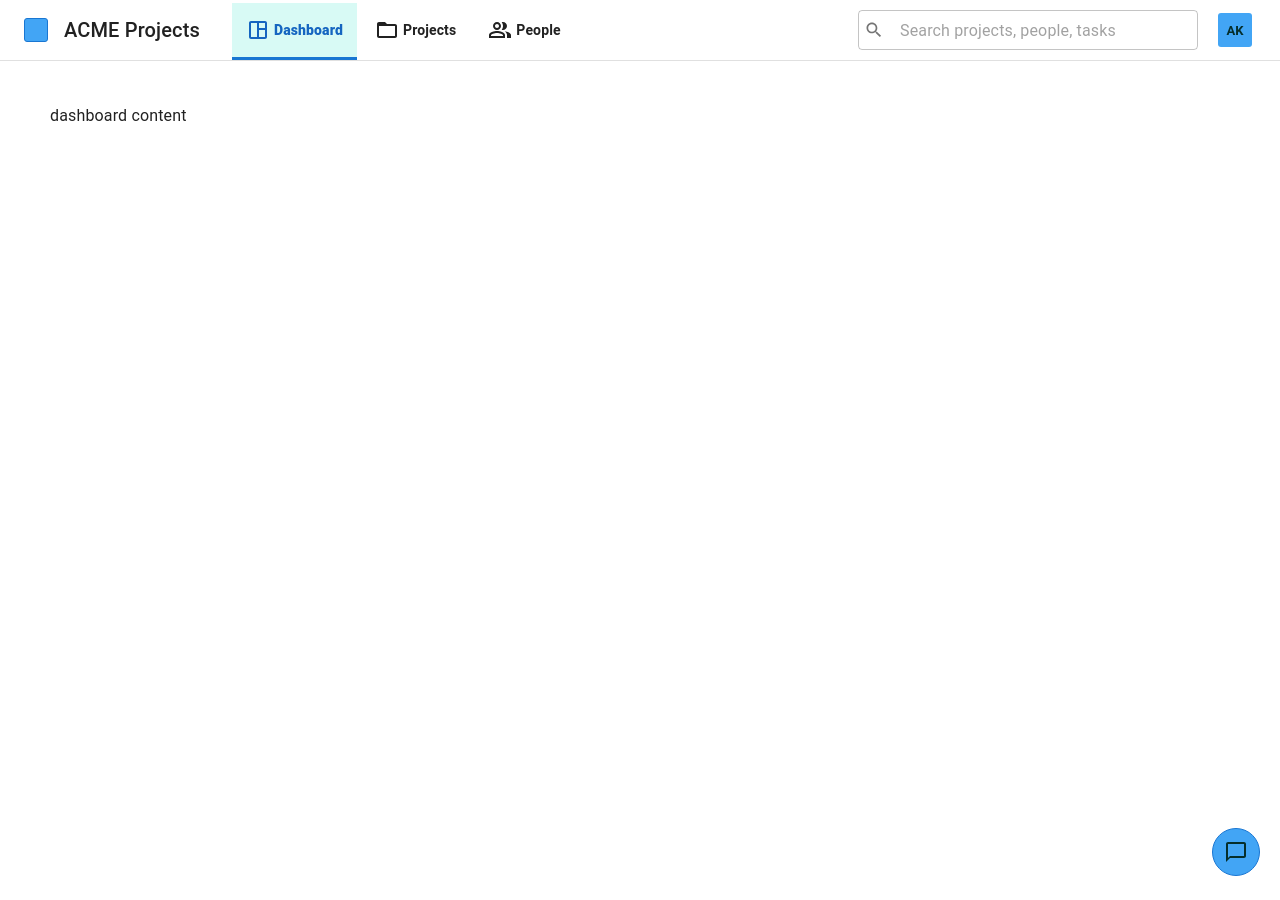
it: AppShell on a wide screen › moves between pages through the menu
The width and height of the screenshot is (1280, 900).
Step 1. Click the link "Projects" → (416, 30), box [375,18,456,42]
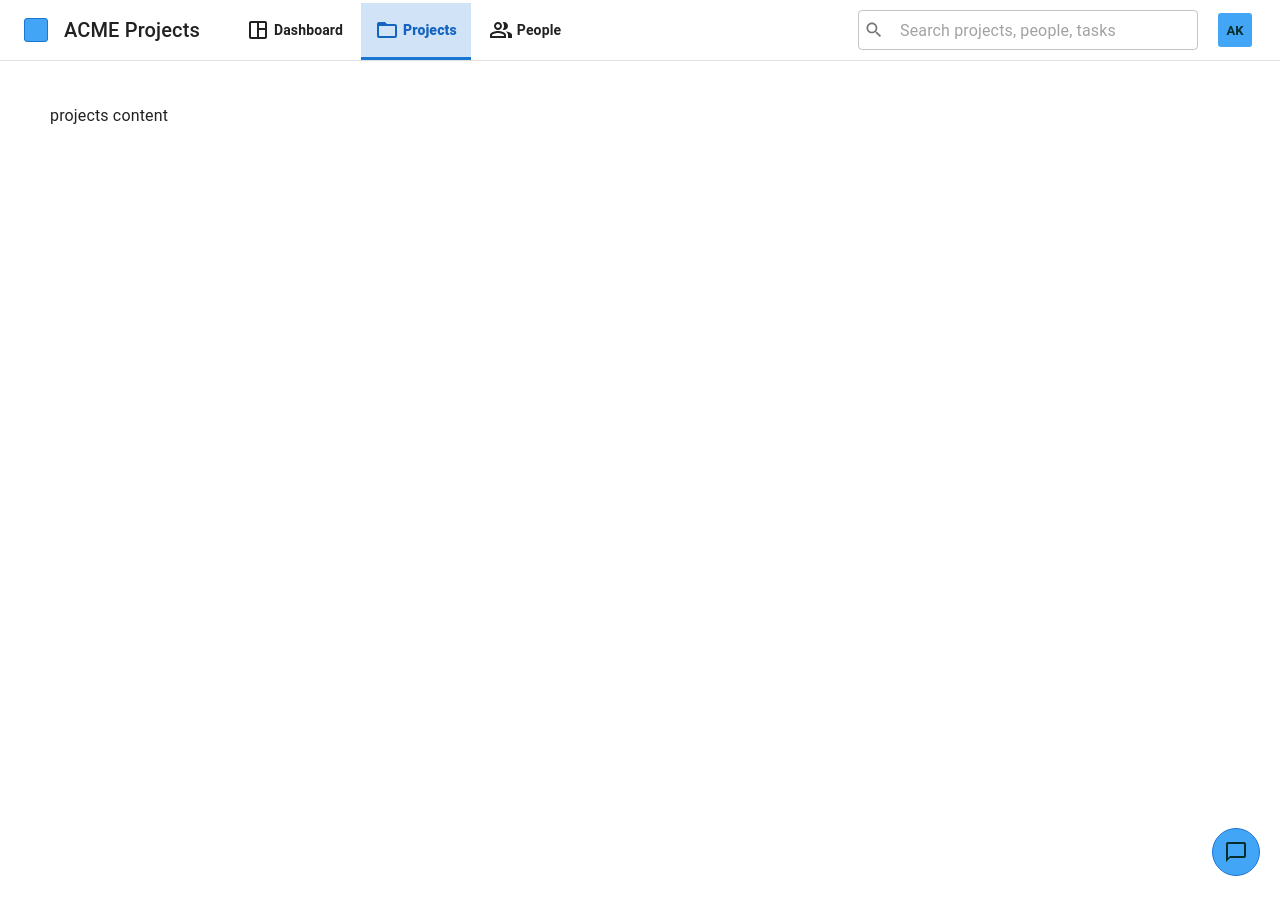
Expected: the text "projects content" is shown, [50,106,168,125]
